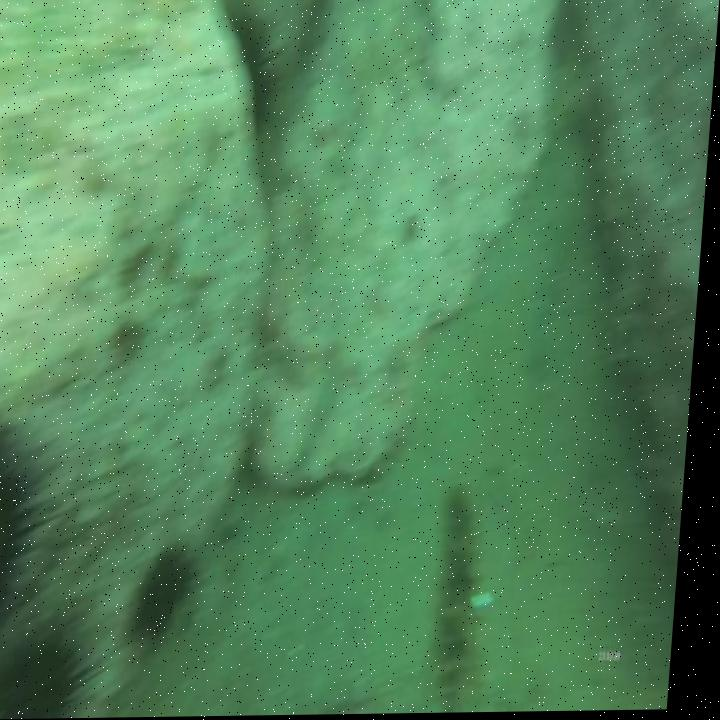echinus: (0, 400, 76, 666), (0, 610, 126, 714), (133, 527, 216, 661)
holothurian: (438, 481, 504, 714)
